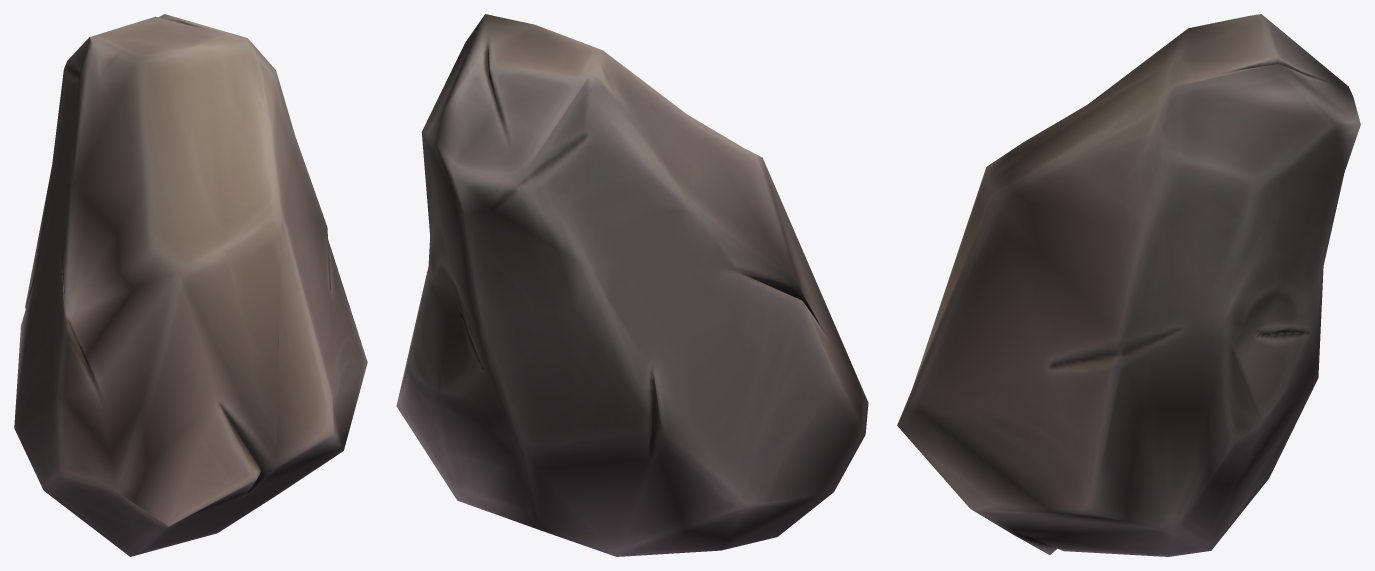
File: Final rock.fbx
3 views of the same model, side by side, from view 1: azimuth 30°, elevation 25°; view 2: azimuth 150°, elevation 25°; view 3: azimuth 270°, elevation 25° (orthographic). The views are drawn at different scales.
Parts seen in each view (by area): view 1: RocksLOD0; view 2: RocksLOD0; view 3: RocksLOD0.
Part boxes in pixels (x1,y1,x2,y2): RocksLOD0: (14, 14, 367, 556); RocksLOD0: (396, 14, 868, 556); RocksLOD0: (897, 14, 1360, 556).
Size of what is drawn, in the model's own units: 1.56 by 1.96 by 1.59.
1 material, 1 textured.
